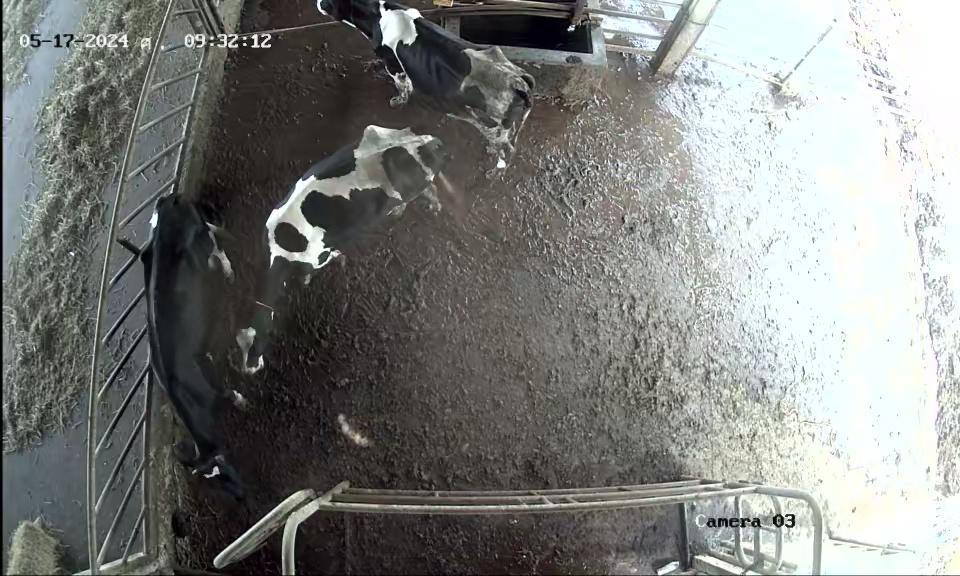stand: (228, 126, 463, 381), (130, 192, 253, 512), (315, 0, 536, 166)
